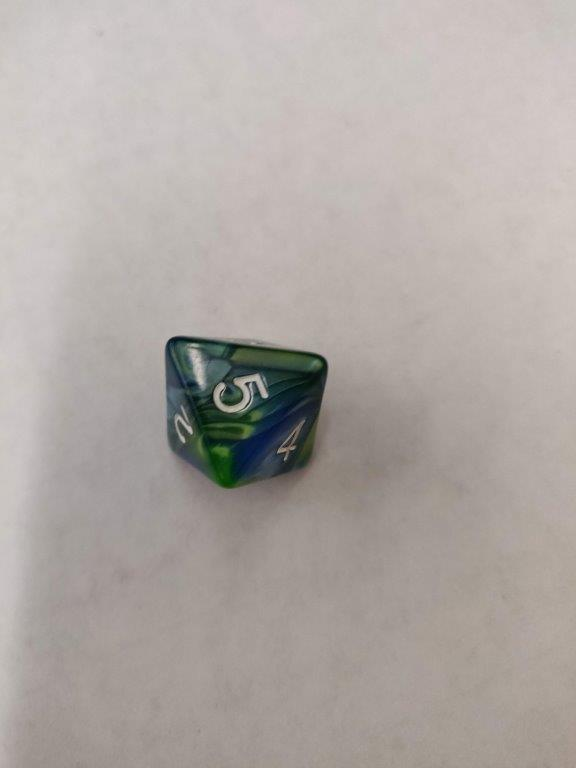d8-5: (162, 331, 328, 486)
